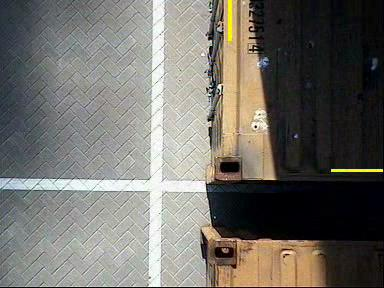groundmarker_2: (105, 186, 186, 241), (117, 16, 172, 61)
